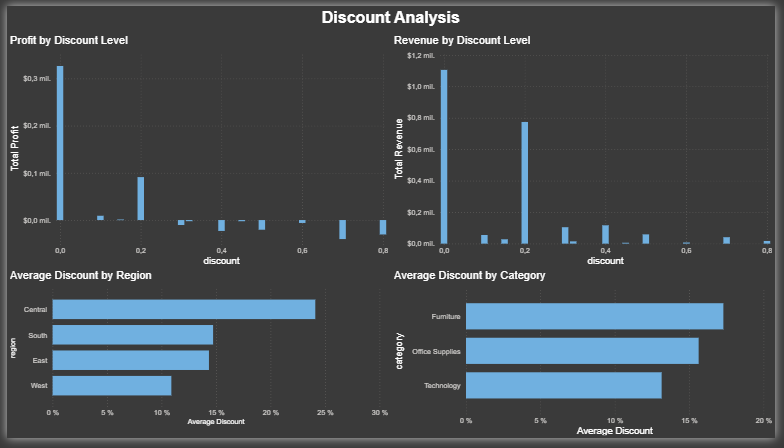

The page's visual inventory and layout, read from the dashboard file:
{"tool":"powerbi","page":{"name":"Discount Analysis","canvas":[1280,720],"ordinal":3},"visuals":[{"type":"textbox","box":[366.2,0,545.9,47],"z":0},{"type":"clusteredColumnChart","title":"Profit by Discount Level","fields":{"Category":["Sales.discount"],"Y":["KPI.Total Profit"]},"box":[0,47,640,391.4],"z":1},{"type":"clusteredColumnChart","title":"Revenue by Discount Level","fields":{"Category":["Sales.discount"],"Y":["KPI.Total Revenue"]},"box":[640,47,640,391.4],"z":2},{"type":"clusteredBarChart","title":"Average Discount by Region","fields":{"Category":["Sales.region"],"Y":["KPI.Average Discount"]},"box":[0,438.4,640,267.1],"z":3},{"type":"clusteredBarChart","title":"Average Discount by Category","fields":{"Category":["Sales.category"],"Y":["KPI.Average Discount"]},"box":[640,438.4,640,282.2],"z":4}]}

Visuals, with their boxes in screenshot pixels (x1, y1, x2, y2), scaled from the page's 1280x720 canvas onto the 784x448 screenshot:
textbox: 224,0,559,29
"Profit by Discount Level" clusteredColumnChart: 0,29,392,273
"Revenue by Discount Level" clusteredColumnChart: 392,29,783,273
"Average Discount by Region" clusteredBarChart: 0,273,392,439
"Average Discount by Category" clusteredBarChart: 392,273,783,447
